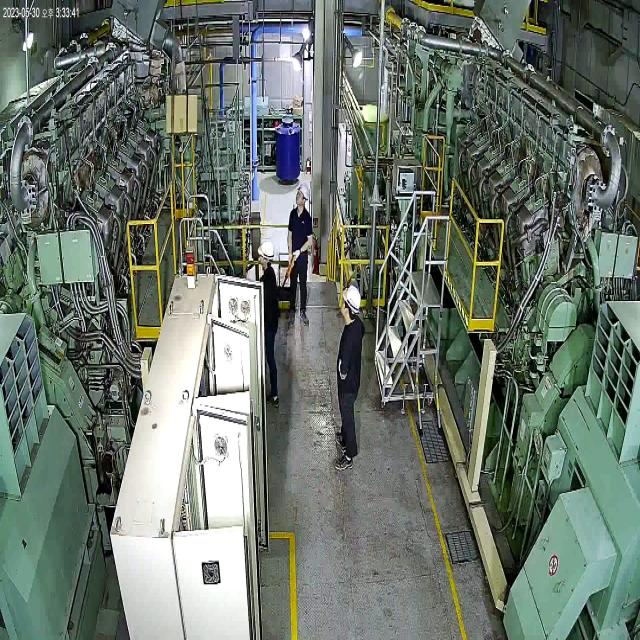Water Tank: (274, 114, 302, 188)
worker: (333, 284, 365, 487), (254, 238, 284, 408), (287, 176, 317, 331)
